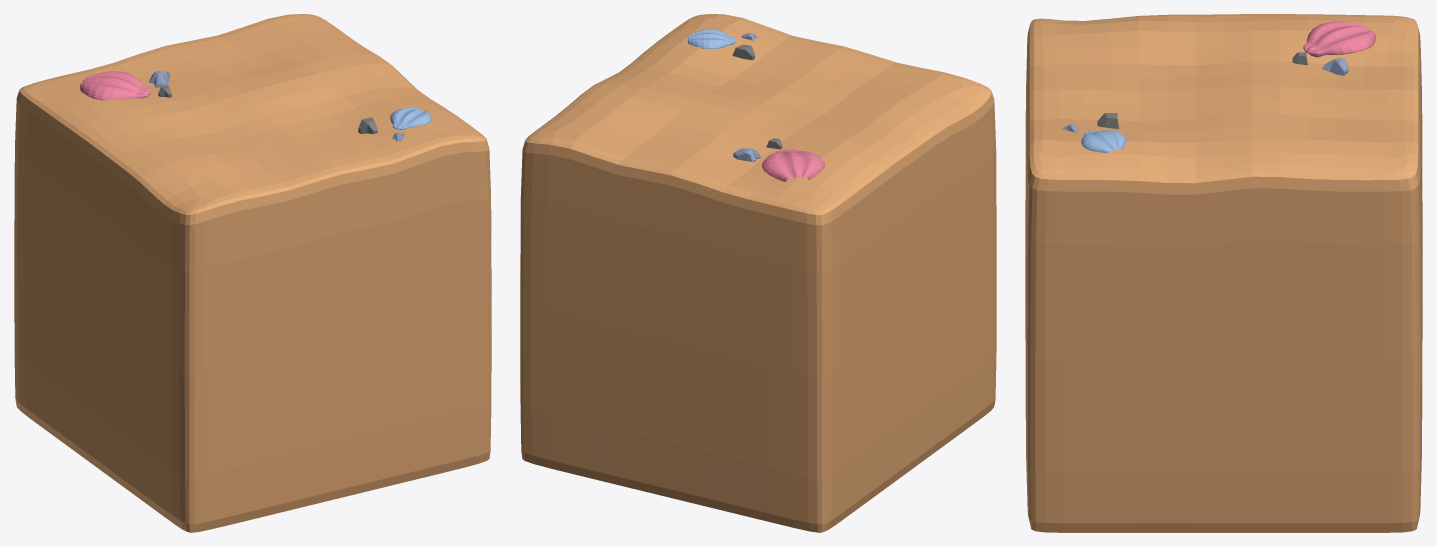
Rendered from areia superfice.fbx.
The picture shows the model from 3 angles, left to right: view 1: azimuth 30°, elevation 25°; view 2: azimuth 150°, elevation 25°; view 3: azimuth 270°, elevation 25°; orthographic projection. The views are drawn at different scales.
Parts seen in each view (by area): view 1: Cube; view 2: Cube; view 3: Cube.
Part boxes in pixels (box(x1,y1,x2,y2)): Cube: box(14, 14, 491, 532); Cube: box(520, 14, 996, 532); Cube: box(1025, 14, 1422, 532).
Size of the model in its own units: 2 by 2.1 by 2.
